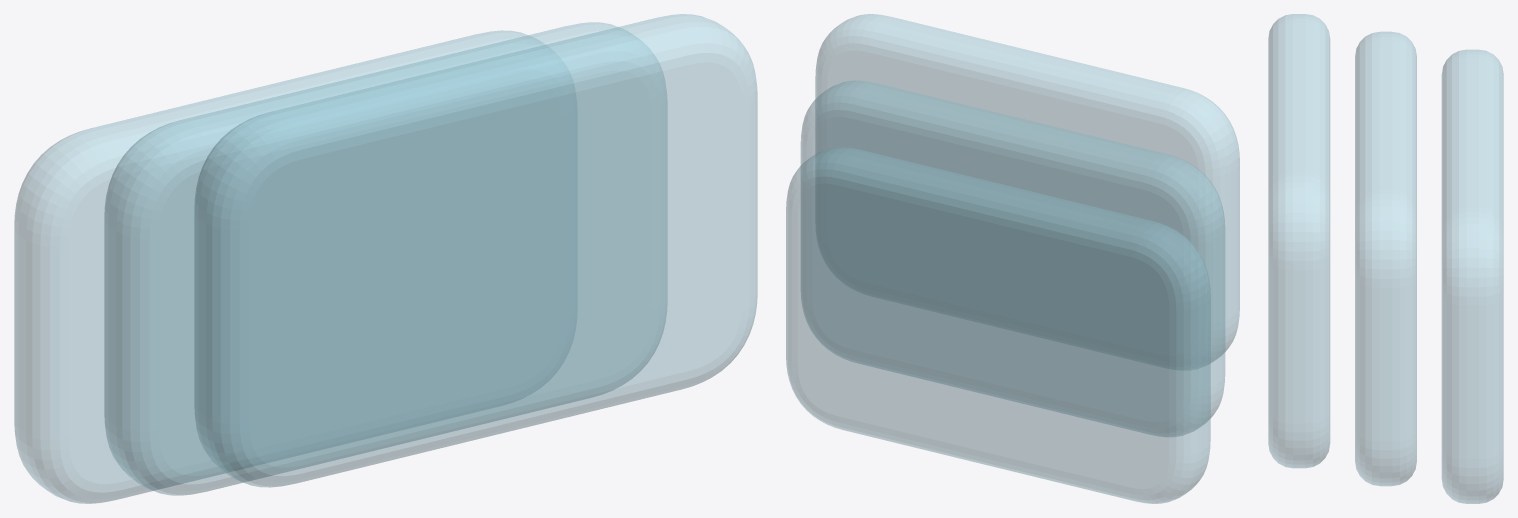
3 views of the same model, side by side, from view 1: azimuth 30°, elevation 25°; view 2: azimuth 150°, elevation 25°; view 3: azimuth 270°, elevation 25° (orthographic). The views are drawn at different scales.
Parts seen in each view (by area): view 1: stack-layer-2, stack-layer-1, stack-layer-0; view 2: stack-layer-0, stack-layer-1, stack-layer-2; view 3: stack-layer-1, stack-layer-0, stack-layer-2.
Boxes of the visible parts, box(x1,y1,x2,y2) form: stack-layer-2: box(194, 14, 757, 487); stack-layer-1: box(104, 22, 667, 495); stack-layer-0: box(14, 30, 545, 503); stack-layer-0: box(786, 147, 1210, 503); stack-layer-1: box(801, 81, 1224, 436); stack-layer-2: box(815, 14, 1239, 362); stack-layer-1: box(1355, 32, 1416, 485); stack-layer-0: box(1442, 50, 1503, 503); stack-layer-2: box(1268, 14, 1329, 467).
Bounding box in the file's own units: 2.28 × 1.56 × 0.95.
